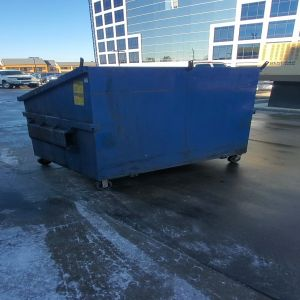Dumpster: (19, 66, 260, 192)
